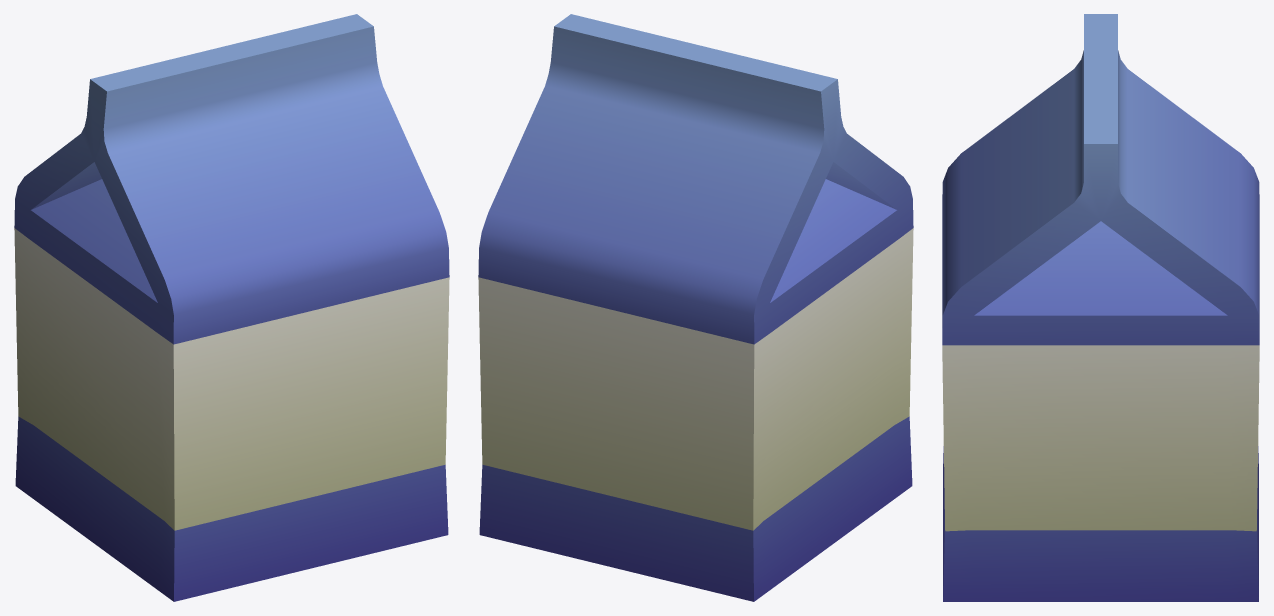
Rendered from Carton_02.glb.
3 views of the same model, side by side, from view 1: azimuth 30°, elevation 25°; view 2: azimuth 150°, elevation 25°; view 3: azimuth 270°, elevation 25° (orthographic).
Parts seen in each view (by area): view 1: Carton_02; view 2: Carton_02; view 3: Carton_02.
Part boxes in pixels (<box>): Carton_02: <box>14,14,449,601</box>; Carton_02: <box>478,14,913,601</box>; Carton_02: <box>942,14,1259,601</box>.
Size of the model in its own units: 0.2479 by 0.3921 by 0.2473.
Materials: 1 (1 with a texture image).
